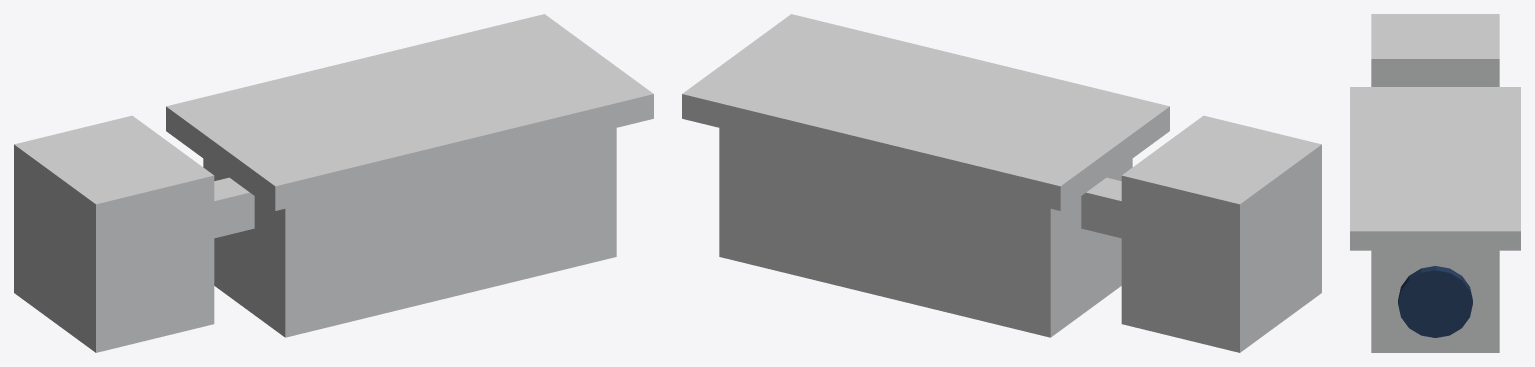
File: SM_Prop_SecurityCamera.glb
3 views of the same model, side by side, from view 1: azimuth 30°, elevation 25°; view 2: azimuth 150°, elevation 25°; view 3: azimuth 270°, elevation 25° (orthographic). The views are drawn at different scales.
Parts seen in each view (by area): view 1: SM_Prop_SecurityCamera; view 2: SM_Prop_SecurityCamera; view 3: SM_Prop_SecurityCamera.
Boxes of the visible parts, bbox=[...] form: SM_Prop_SecurityCamera: bbox=[14, 14, 653, 352]; SM_Prop_SecurityCamera: bbox=[682, 14, 1321, 352]; SM_Prop_SecurityCamera: bbox=[1350, 14, 1520, 352].
Bounding box in the file's own units: 0.46 × 0.145 × 0.16.
